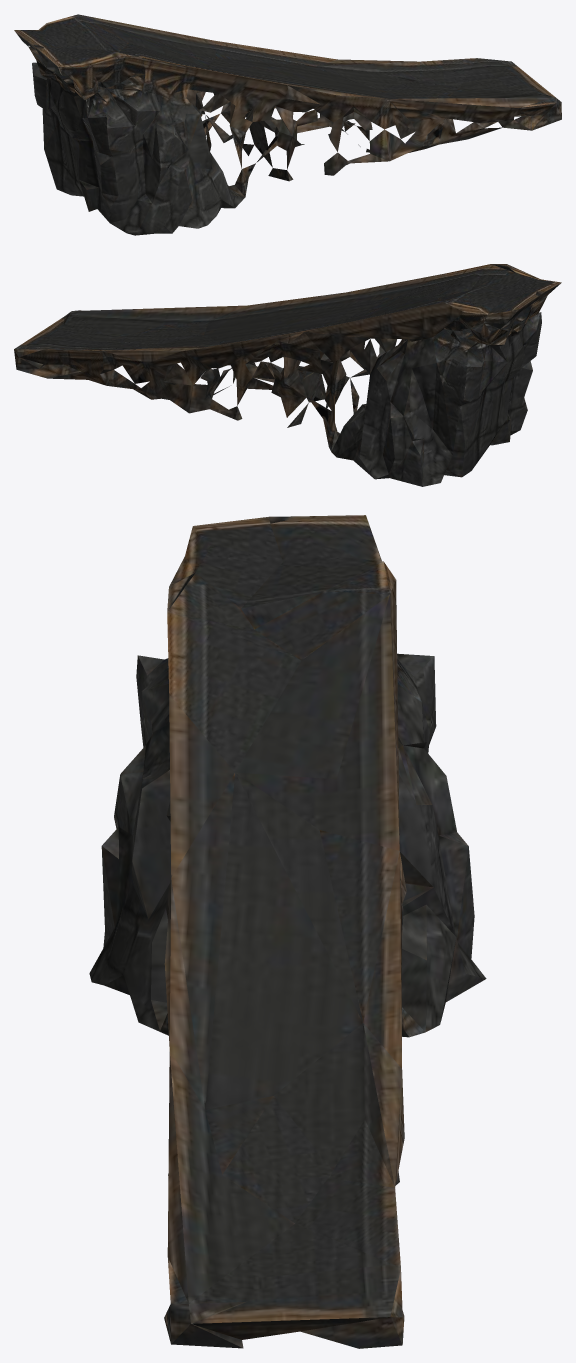
File: stunt-cliff-ramp.lod.glb
3 renders of one model, top to bottom at view 1: azimuth 30°, elevation 25°; view 2: azimuth 150°, elevation 25°; view 3: azimuth 270°, elevation 25°, orthographic. The views are drawn at different scales.
Parts seen in each view (by area): view 1: output_unwrapped; view 2: output_unwrapped; view 3: output_unwrapped.
Part boxes in pixels (bbox=[...]): output_unwrapped: bbox=[14, 14, 561, 235]; output_unwrapped: bbox=[14, 264, 561, 486]; output_unwrapped: bbox=[89, 515, 486, 1348].
Size of the model in its own units: 1.83 by 0.6232 by 0.6316.
Materials: 1 (1 with a texture image).
